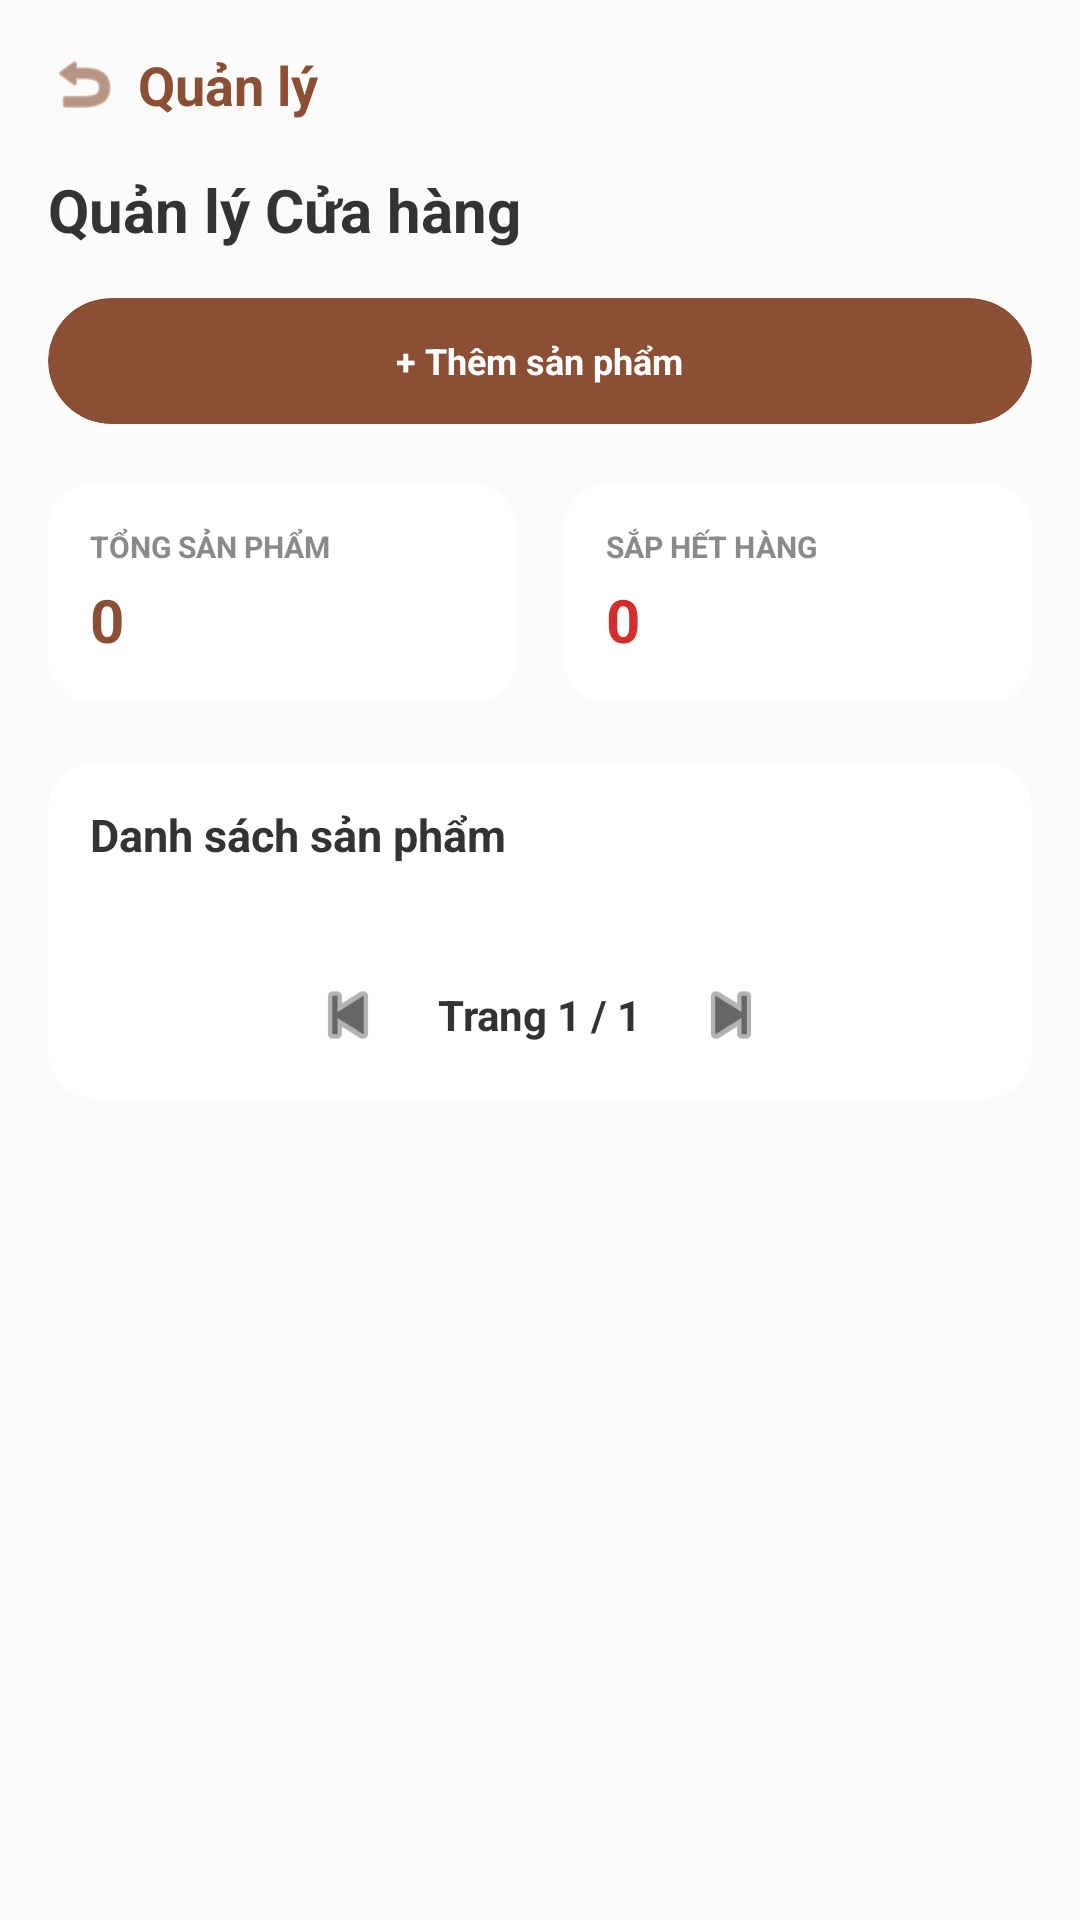

Icons on this 1080px x 1920px Android screen, each with the point to tap as (x=x, y=y):
next: (x=731, y=1015)
previous: (x=348, y=1015)
revert: (x=85, y=84)
